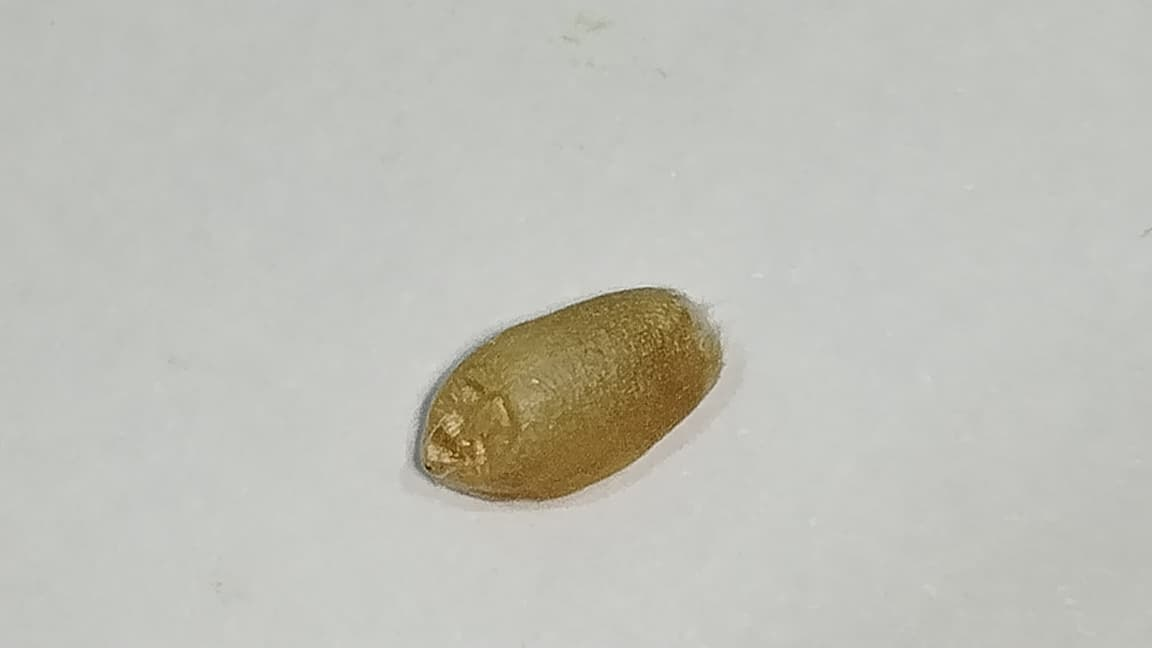healthy: (413, 285, 723, 502)
